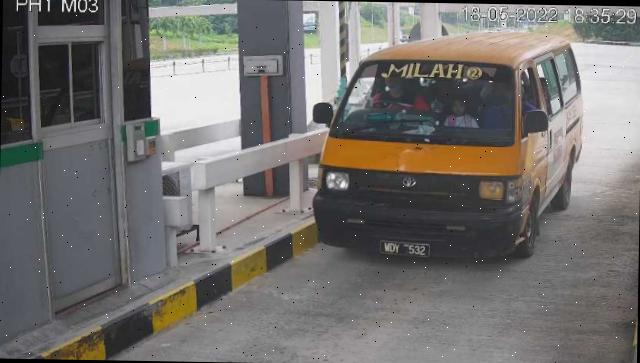License_Plate: (380, 240, 432, 262)
van: (313, 28, 584, 263)
